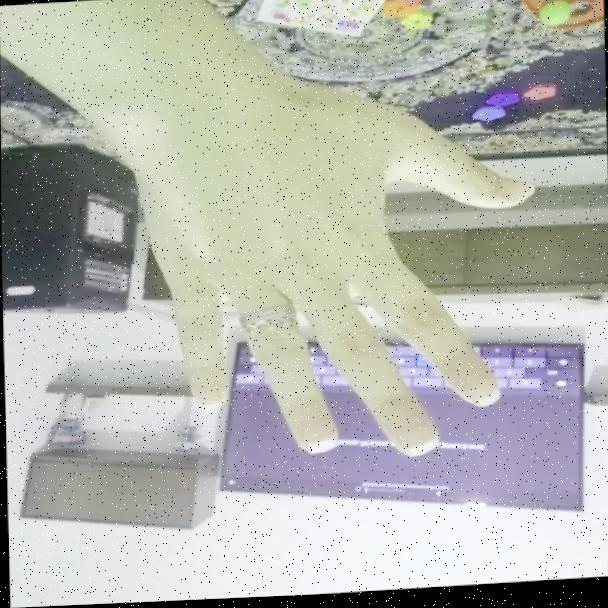five: (143, 80, 560, 478)
